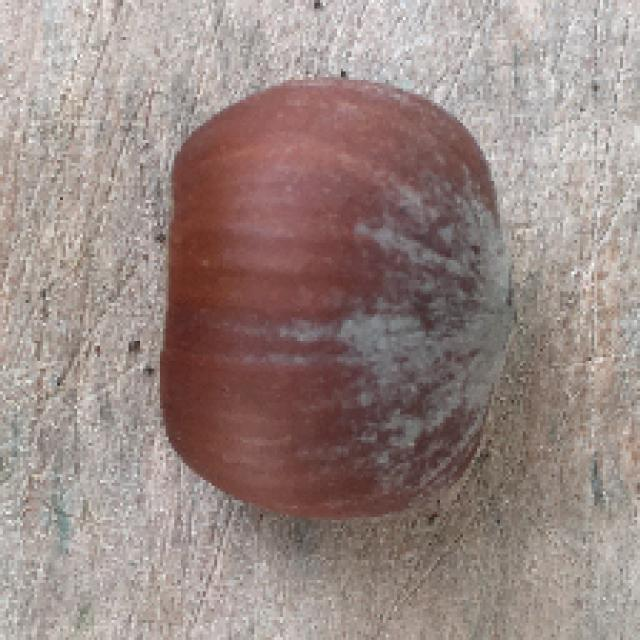DamagedHazelnut: (156, 83, 520, 518)
